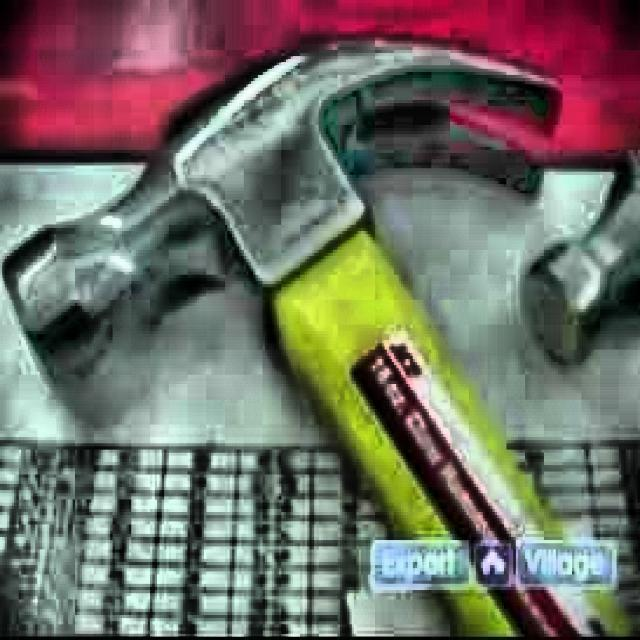hammer: (3, 36, 635, 636)
